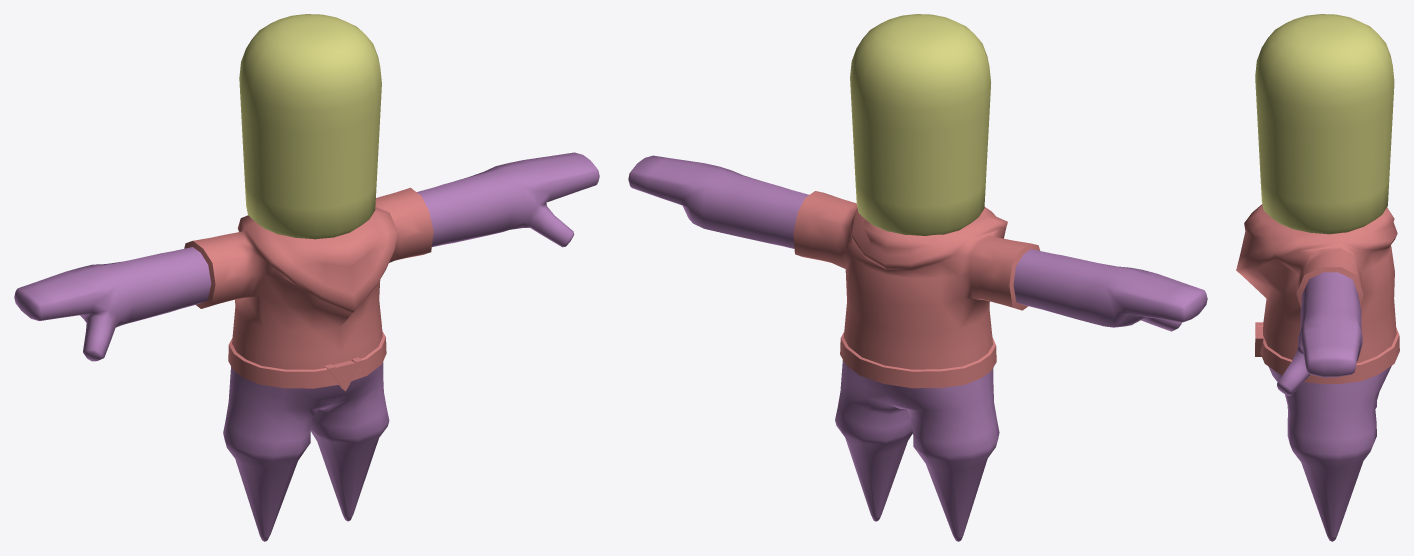
Rendered from Solaris en 1 Sans Masque.fbx.
The picture shows the model from 3 angles, left to right: view 1: azimuth 30°, elevation 25°; view 2: azimuth 150°, elevation 25°; view 3: azimuth 270°, elevation 25°; orthographic projection. The views are drawn at different scales.
Parts seen in each view (by area): view 1: Body05; view 2: Body05; view 3: Body05.
Part boxes in pixels (bbox=[...]): Body05: bbox=[14, 14, 599, 541]; Body05: bbox=[628, 14, 1207, 541]; Body05: bbox=[1236, 14, 1399, 541].
Size of the model in its own units: 149 by 127 by 38.13.
